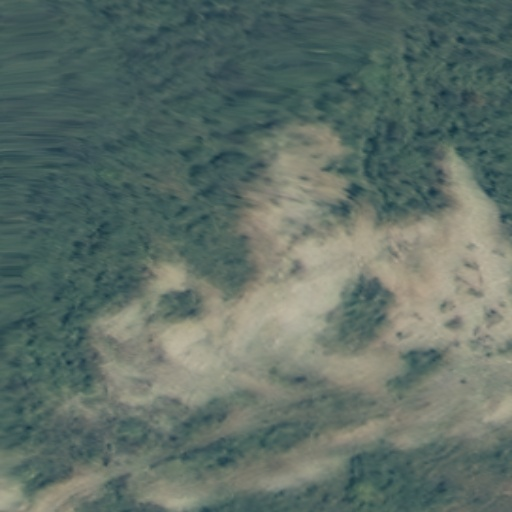landslide: (111, 210, 510, 407)
